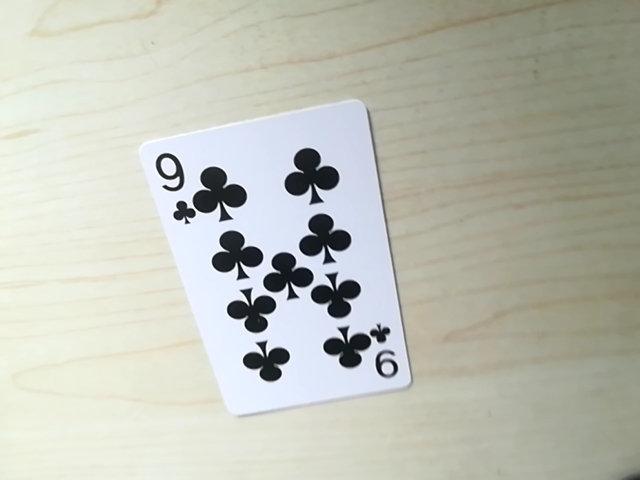mh 9: (150, 144, 190, 222), (363, 332, 403, 383)
